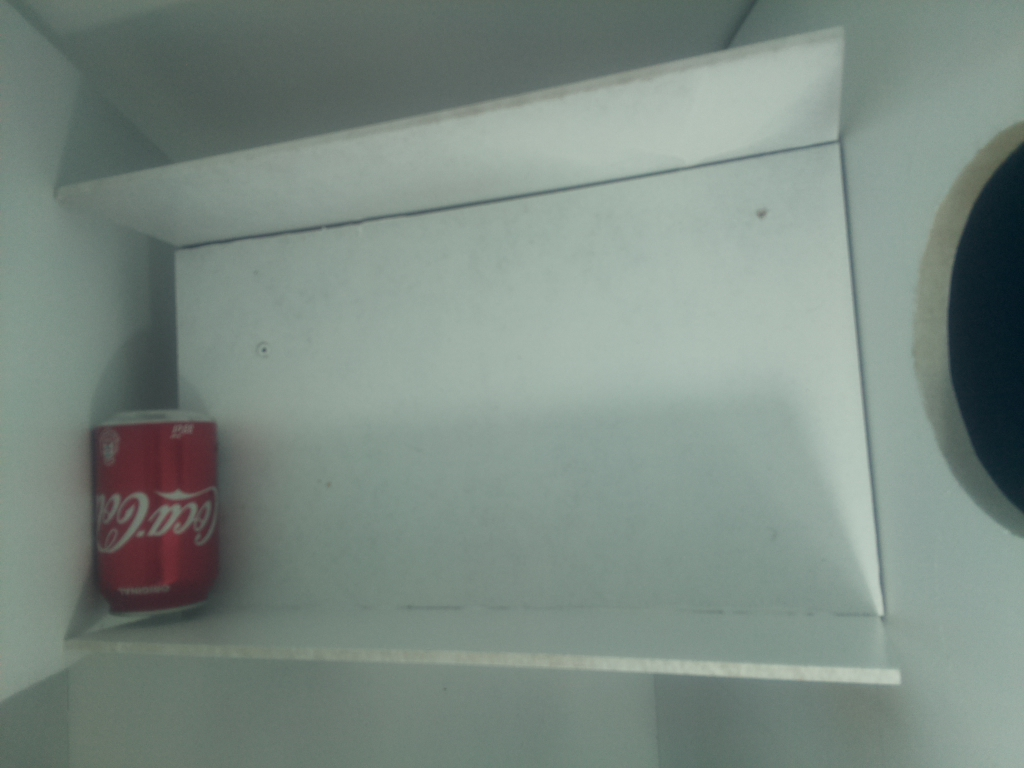kaleng: (95, 408, 218, 623)
